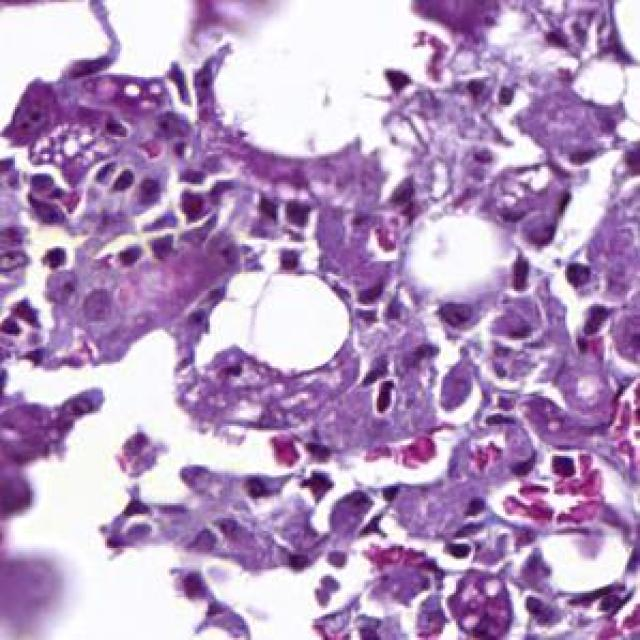ballooning: (191, 261, 351, 383)
